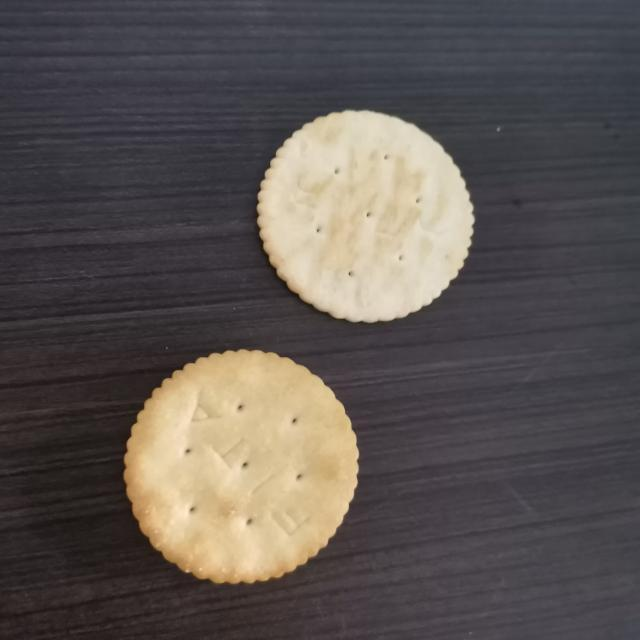Intact: (111, 341, 371, 596), (249, 97, 486, 337)
